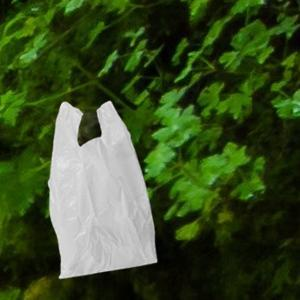plastic_bag: (44, 97, 163, 280)
